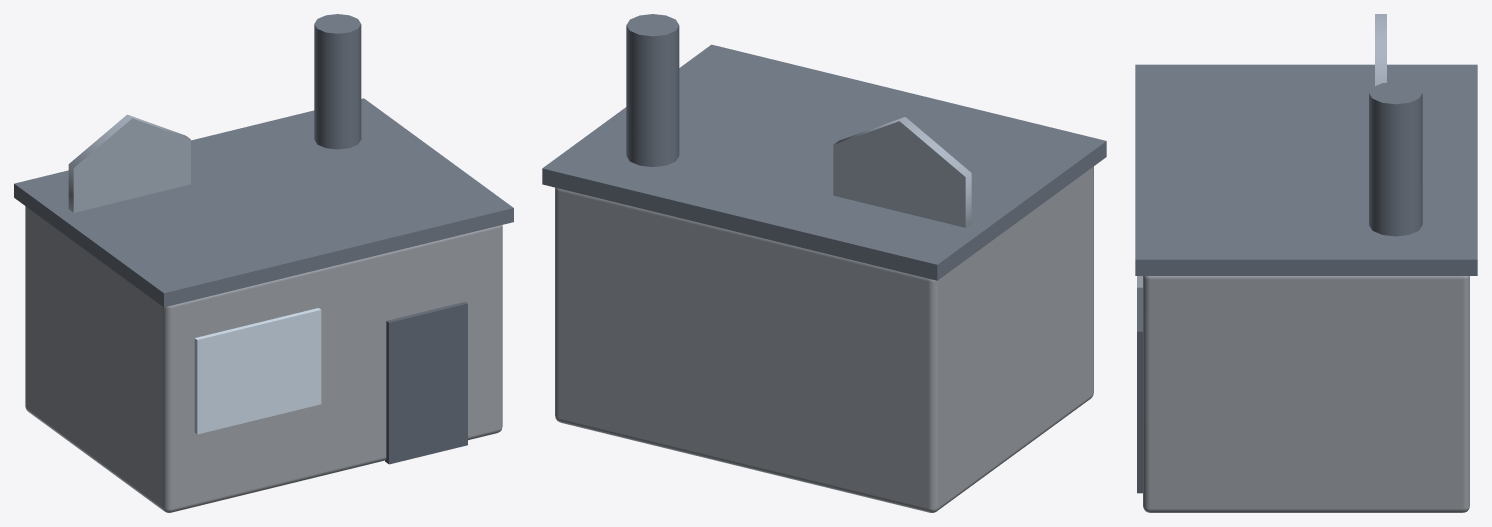
The model's file is prop_district_workshop_ph.glb.
3 views of the same model, side by side, from view 1: azimuth 30°, elevation 25°; view 2: azimuth 150°, elevation 25°; view 3: azimuth 270°, elevation 25° (orthographic). The views are drawn at different scales.
Parts seen in each view (by area): view 1: prop_district_workshop; view 2: prop_district_workshop; view 3: prop_district_workshop.
Boxes of the visible parts, x1,y1,x2,y2 form: prop_district_workshop: (14,14,513,512); prop_district_workshop: (542,14,1106,512); prop_district_workshop: (1135,14,1477,512).
Size of the model in its own units: 3.1 by 2.9 by 2.3.
